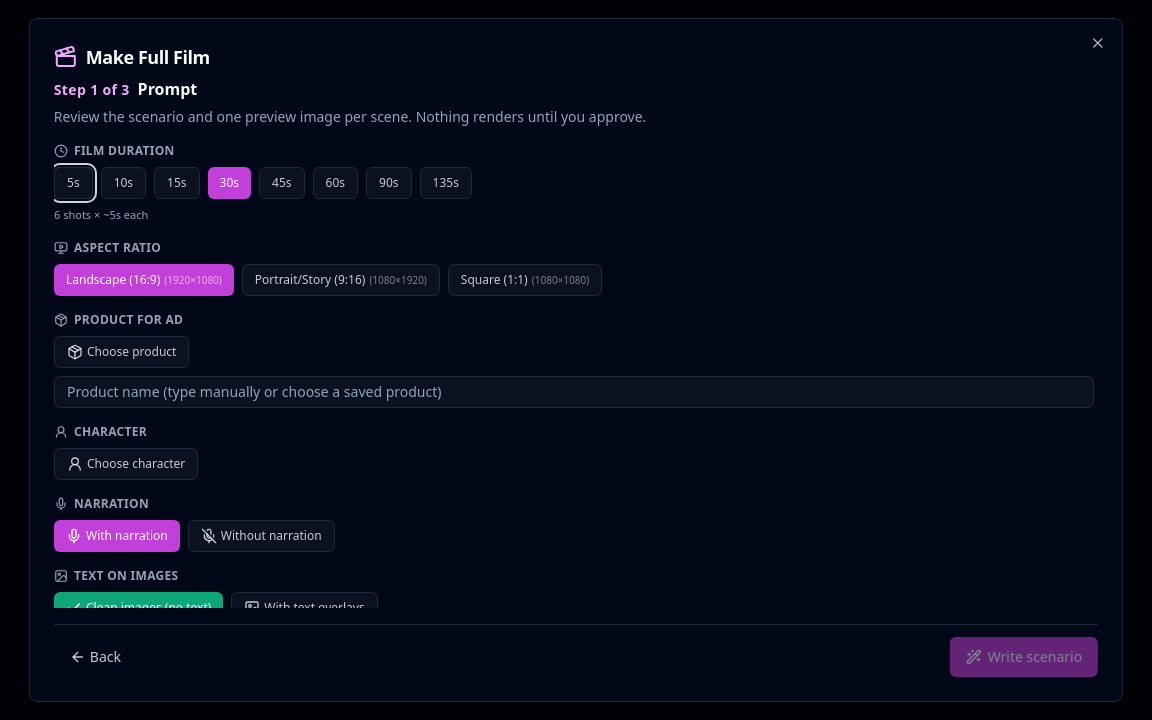
Product Picker image retry › raw storage path is never used as img src
Click the button "Choose product" at x=122, y=352, box [54,336,189,368]
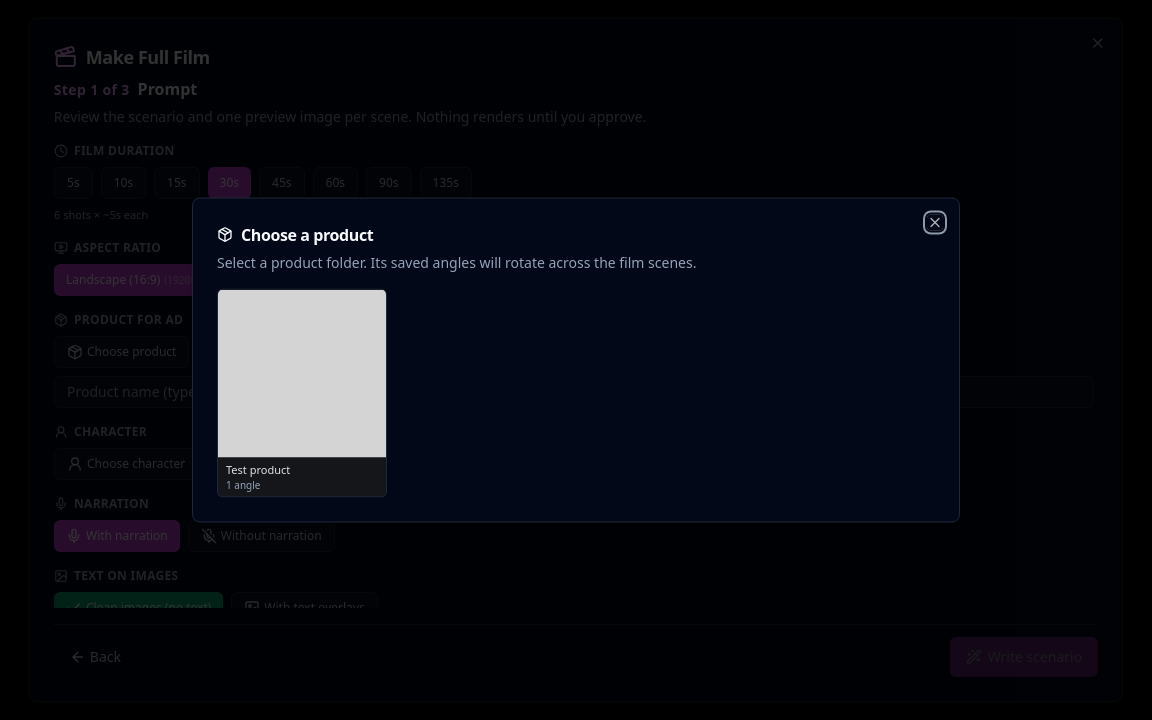
Result: the text "Test product" is shown at [226,461,290,476]
